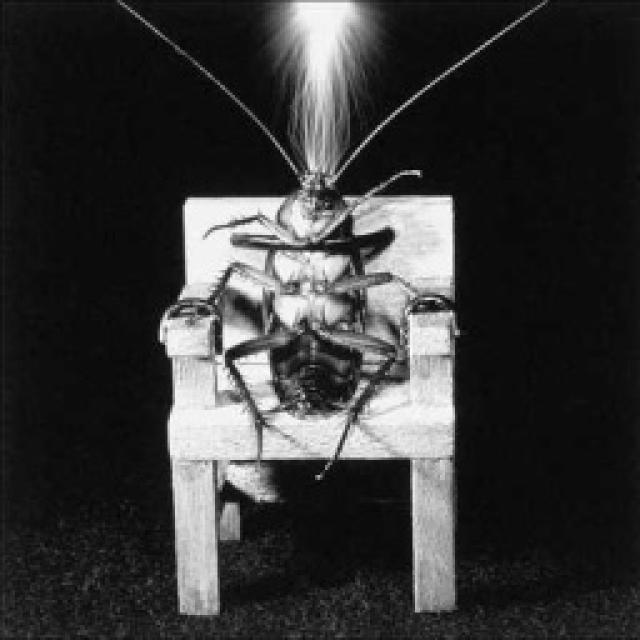cockroach: (180, 119, 447, 493)
